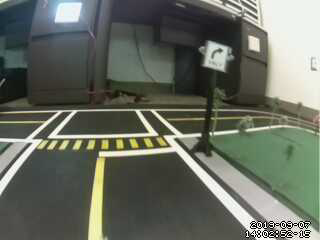Right_only_sign: (205, 43, 228, 76)
